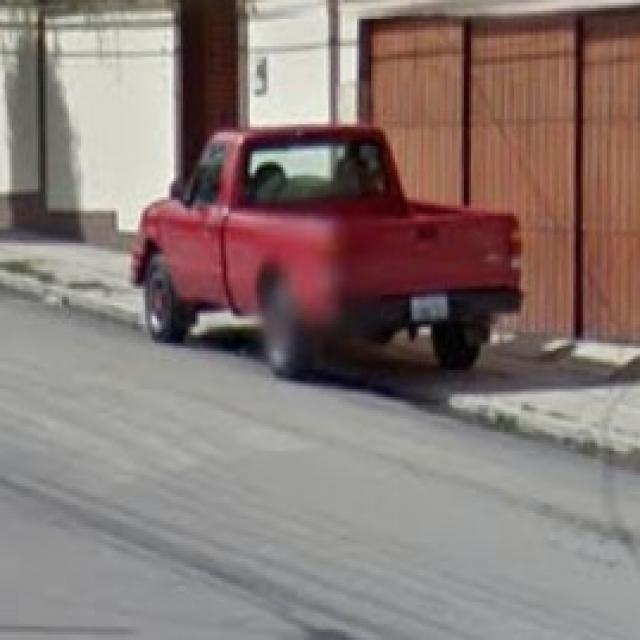Car: (137, 128, 525, 384)
